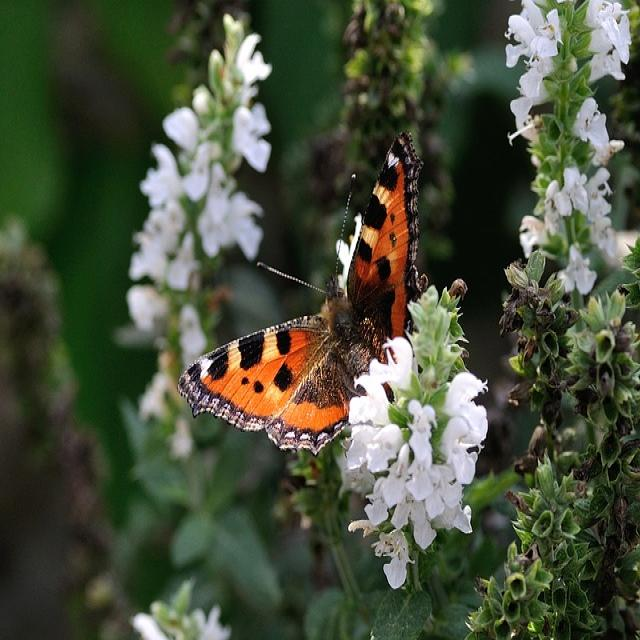butterfly: (179, 133, 420, 452)
